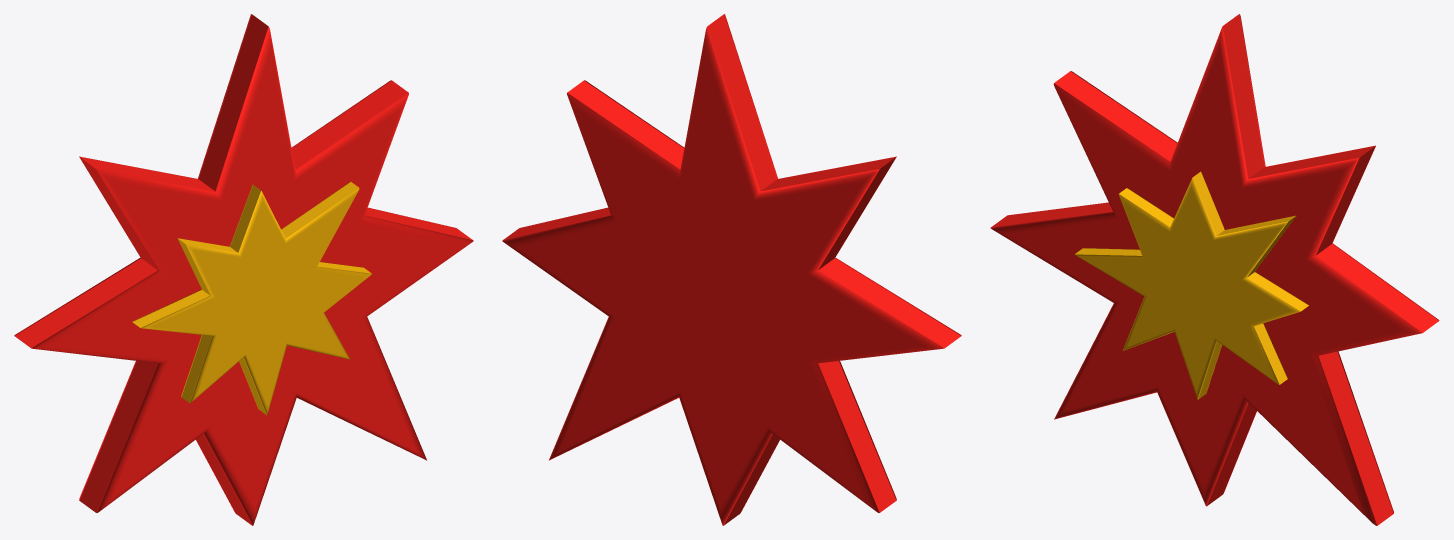
The model's file is boom.glb.
The picture shows the model from 3 angles, left to right: view 1: azimuth 30°, elevation 25°; view 2: azimuth 150°, elevation 25°; view 3: azimuth 330°, elevation 25°; orthographic projection. The views are drawn at different scales.
Parts seen in each view (by area): view 1: Extrude.006; view 2: Extrude.006; view 3: Extrude.006.
Part boxes in pixels (left/top/right/bottom): Extrude.006: left=14, top=14, right=473, bottom=525; Extrude.006: left=502, top=14, right=961, bottom=525; Extrude.006: left=990, top=14, right=1439, bottom=525.
Bounding box in the file's own units: 37.64 × 40.3 × 4.82.
